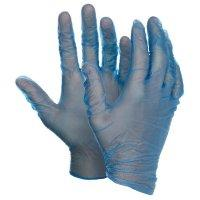gloves: (13, 2, 183, 196)
